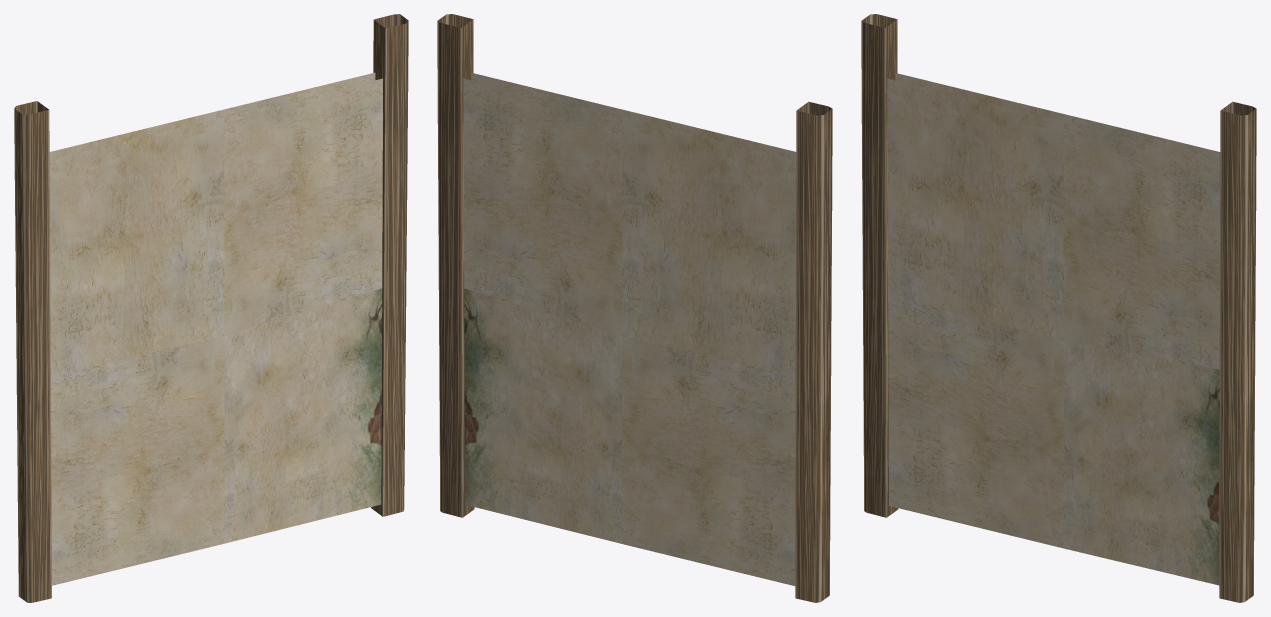
Rendered from interior_wall_spanish.fbx.
3 renders of one model, left to right at view 1: azimuth 30°, elevation 25°; view 2: azimuth 150°, elevation 25°; view 3: azimuth 330°, elevation 25°, orthographic.
Visible parts, largest first — view 1: wall_04, beam_9, beam_6, wall_02; view 2: wall_02, beam_9, beam_6, wall_04; view 3: wall_04, beam_6, beam_9, wall_02.
Boxes of the visible parts, x1=… form: wall_04: x1=49, y1=78, x2=382, y2=585; beam_9: x1=14, y1=101, x2=51, y2=602; beam_6: x1=371, y1=14, x2=408, y2=516; wall_02: x1=49, y1=72, x2=375, y2=159; wall_02: x1=463, y1=78, x2=796, y2=585; beam_9: x1=795, y1=101, x2=832, y2=602; beam_6: x1=437, y1=14, x2=474, y2=517; wall_04: x1=471, y1=72, x2=796, y2=159; wall_04: x1=887, y1=78, x2=1220, y2=585; beam_6: x1=1219, y1=101, x2=1256, y2=602; beam_9: x1=861, y1=14, x2=898, y2=517; wall_02: x1=895, y1=73, x2=1220, y2=159.
Bounding box in the file's own units: 2294 × 2775 × 133.
2 materials, 2 textured.
